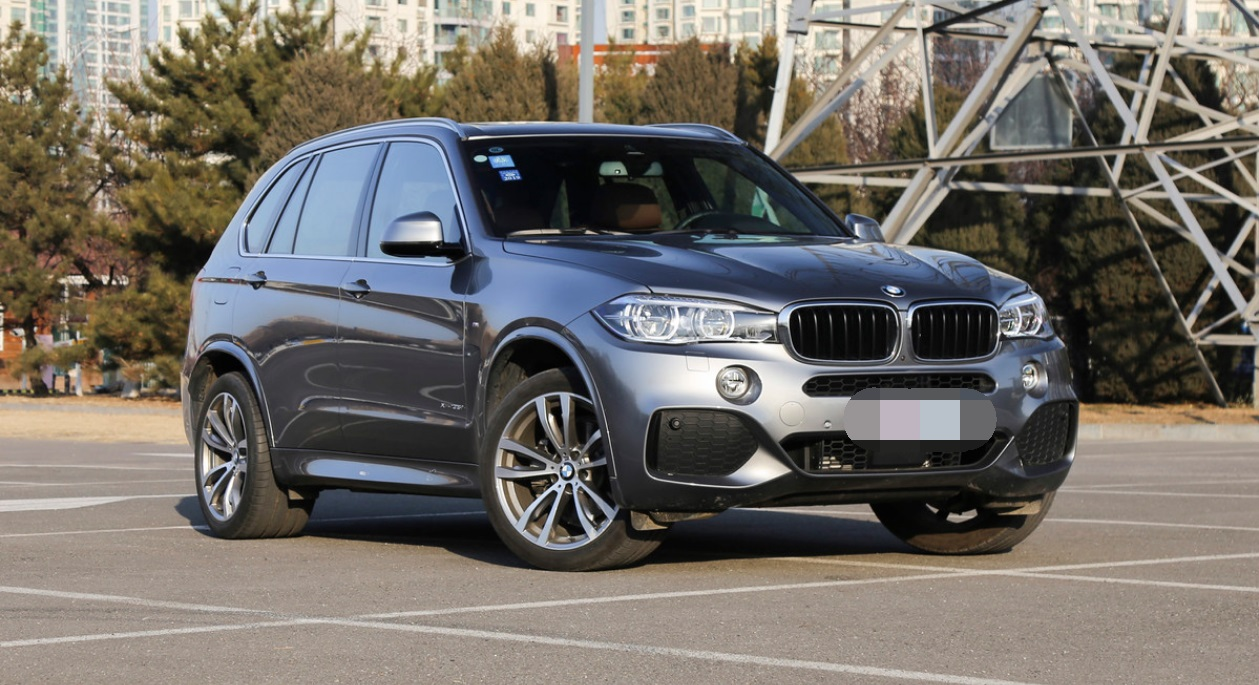SUV: (178, 115, 1082, 580)
